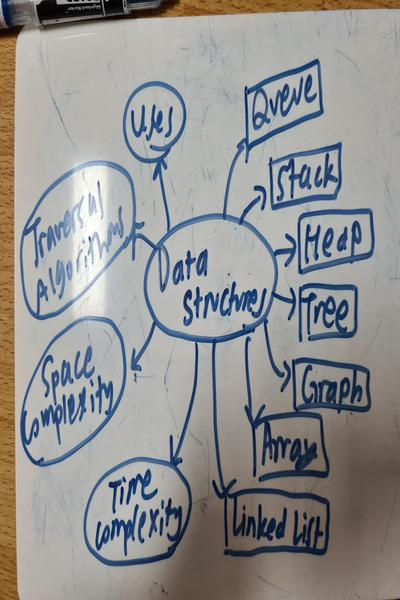arrow: (208, 342, 236, 498), (171, 335, 199, 466), (261, 319, 294, 390), (241, 333, 264, 423), (128, 318, 161, 377), (223, 136, 243, 217), (151, 160, 171, 228), (242, 187, 267, 225), (272, 233, 298, 266), (132, 224, 156, 255), (275, 290, 297, 320)
idea: (221, 490, 329, 556), (244, 58, 325, 143), (251, 412, 332, 478), (297, 209, 373, 273), (268, 144, 342, 209), (292, 357, 372, 412), (298, 282, 360, 340)
topic: (18, 162, 134, 316), (145, 215, 278, 339), (22, 317, 126, 466), (85, 458, 188, 565), (125, 81, 184, 164)
